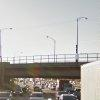Bridge: (5, 49, 88, 86)
